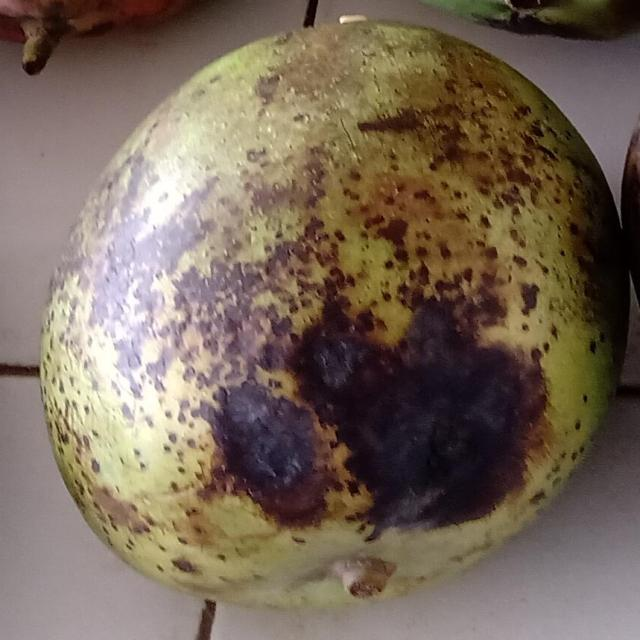Bad_Mango: (42, 21, 628, 606)
